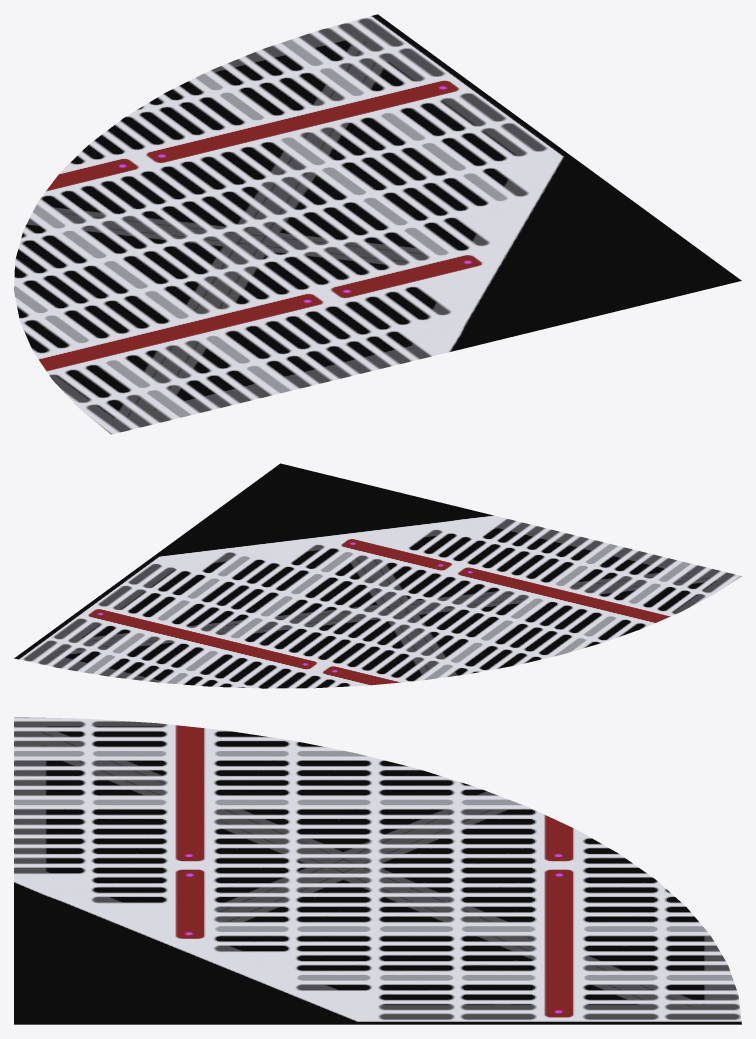
Rendered from Roof_Turn_02.FBX.
3 renders of one model, top to bottom at view 1: azimuth 30°, elevation 25°; view 2: azimuth 150°, elevation 25°; view 3: azimuth 270°, elevation 25°, orthographic. The views are drawn at different scales.
Parts seen in each view (by area): view 1: Roof_Turn_02; view 2: Roof_Turn_02; view 3: Roof_Turn_02.
Part boxes in pixels (left/top/right/bottom): Roof_Turn_02: left=14, top=14, right=741, bottom=434; Roof_Turn_02: left=14, top=463, right=741, bottom=688; Roof_Turn_02: left=14, top=717, right=741, bottom=1024.
Size of the model in its own units: 6 by 1.78e-15 by 6.
